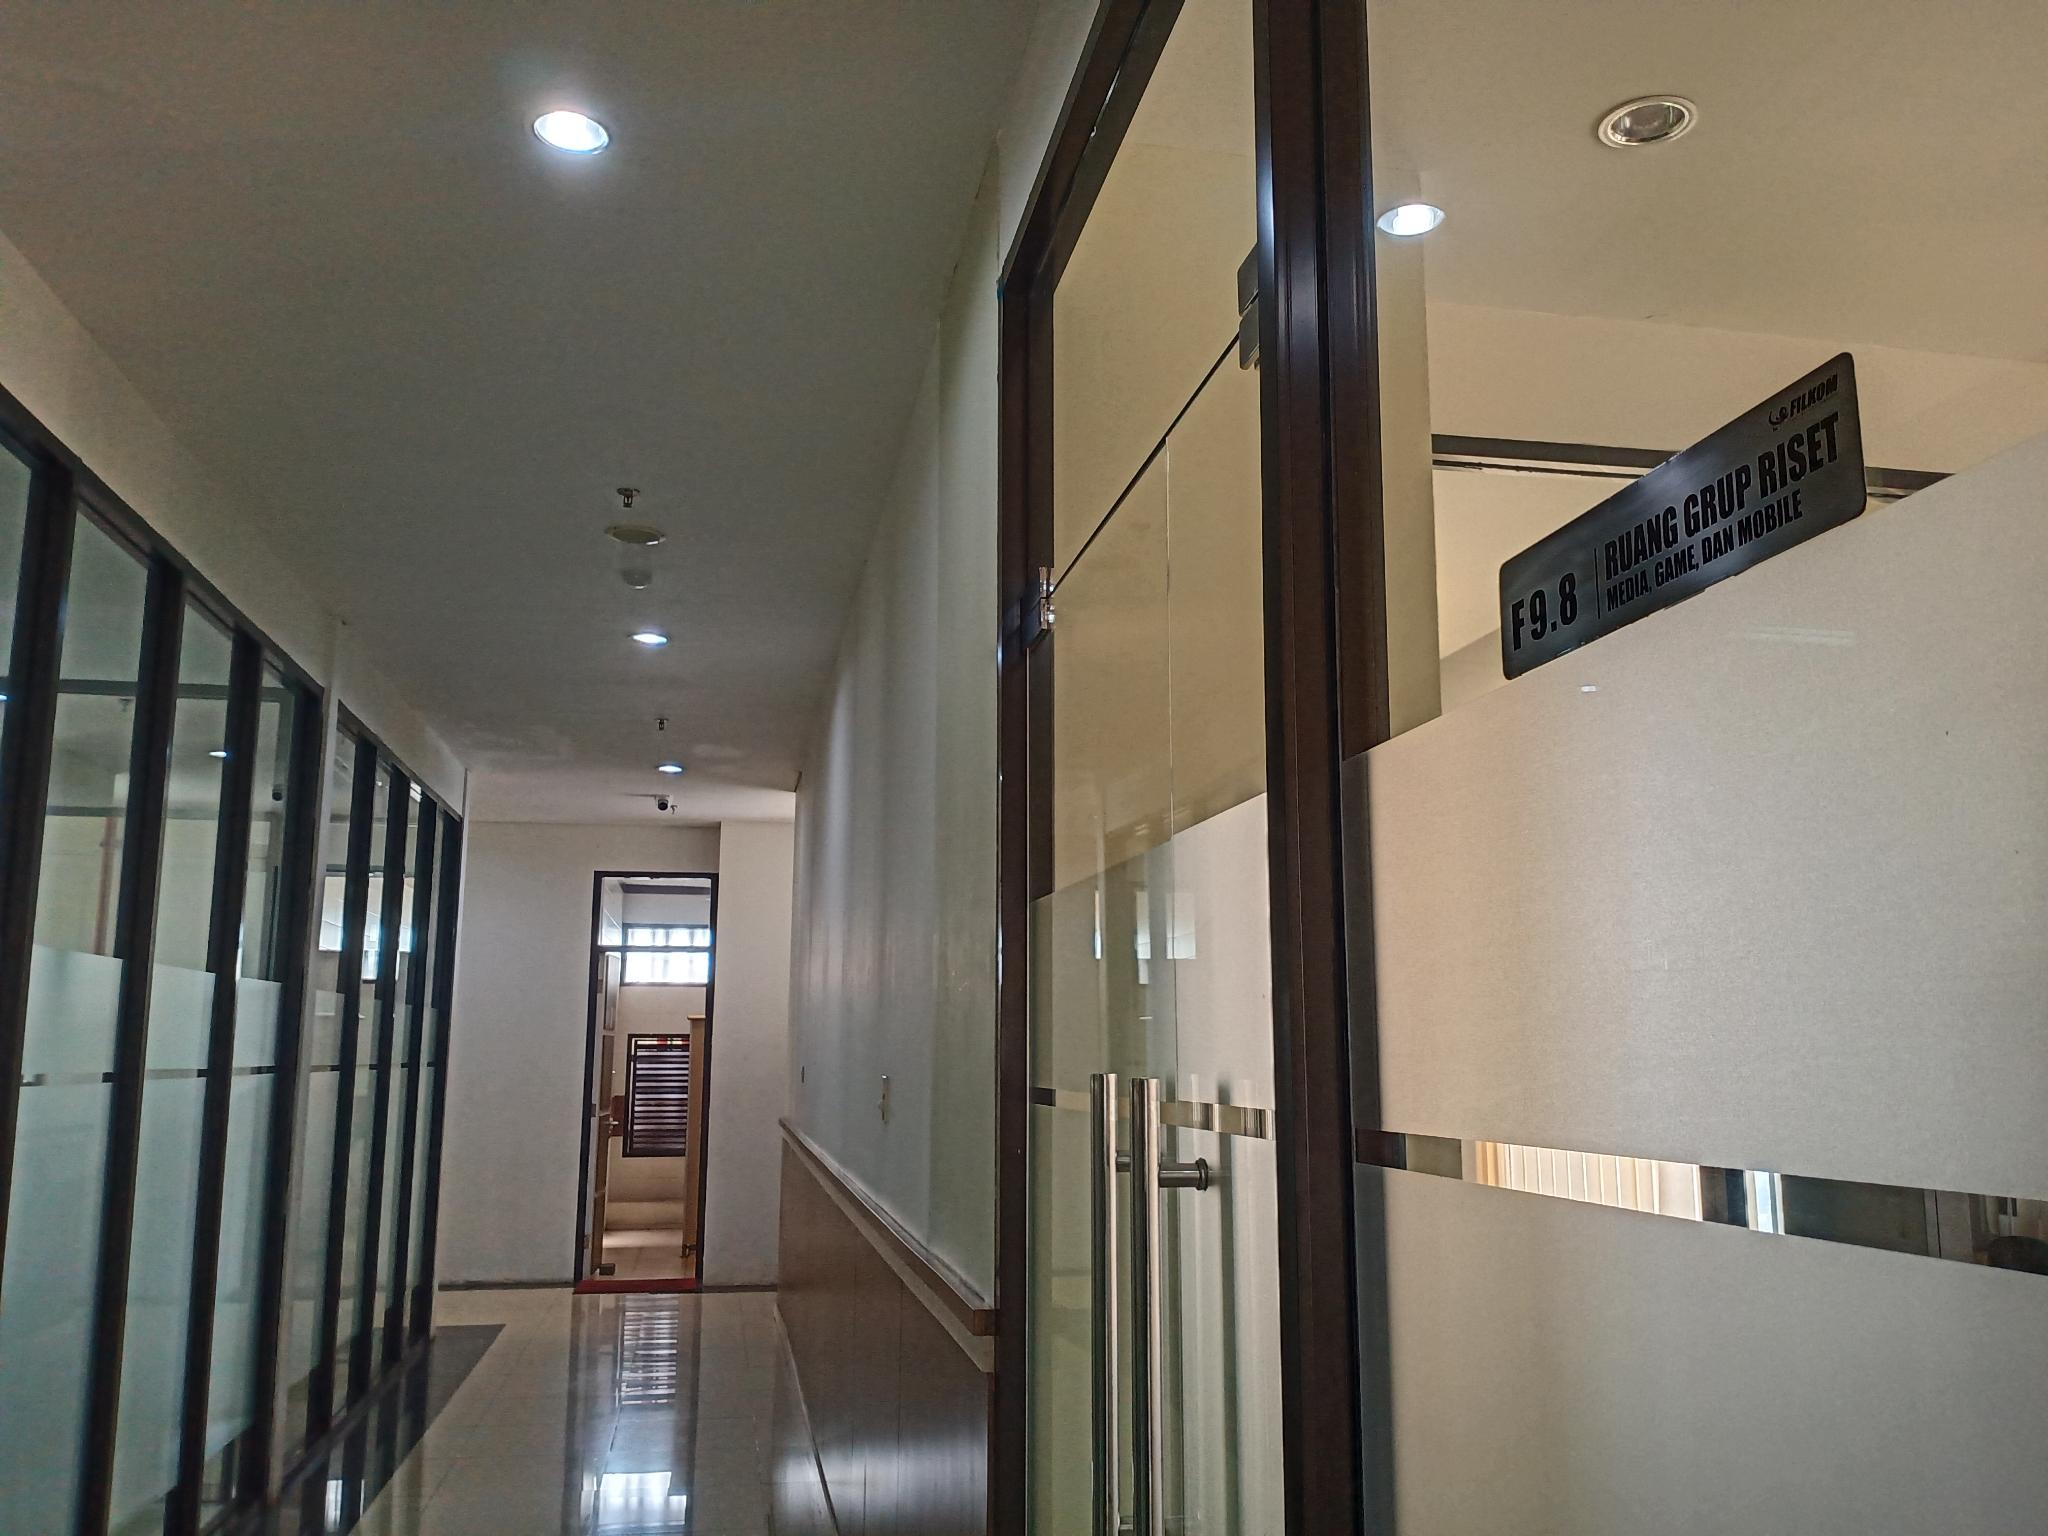plate: (1498, 347, 1871, 687)
